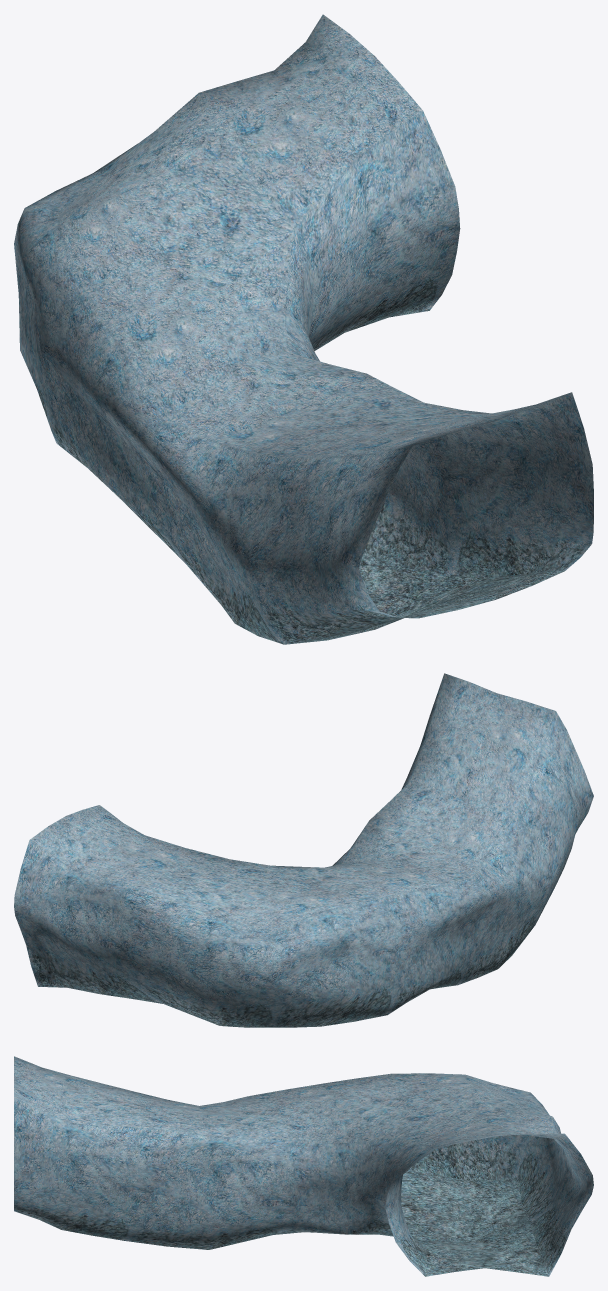
Rendered from thm_all_cave_flatland_s02_ice_r10_mesh_r10.fbx.
3 views of the same model, one above another, from view 1: azimuth 30°, elevation 25°; view 2: azimuth 150°, elevation 25°; view 3: azimuth 270°, elevation 25° (orthographic). The views are drawn at different scales.
Visible parts, largest first — view 1: mesh_node; view 2: mesh_node; view 3: mesh_node.
Part boxes in pixels (left/top/right/bottom): mesh_node: left=14, top=14, right=593, bottom=644; mesh_node: left=14, top=673, right=593, bottom=1027; mesh_node: left=14, top=1056, right=593, bottom=1276.
Size of the model in its own units: 22.26 by 15.73 by 41.06.
